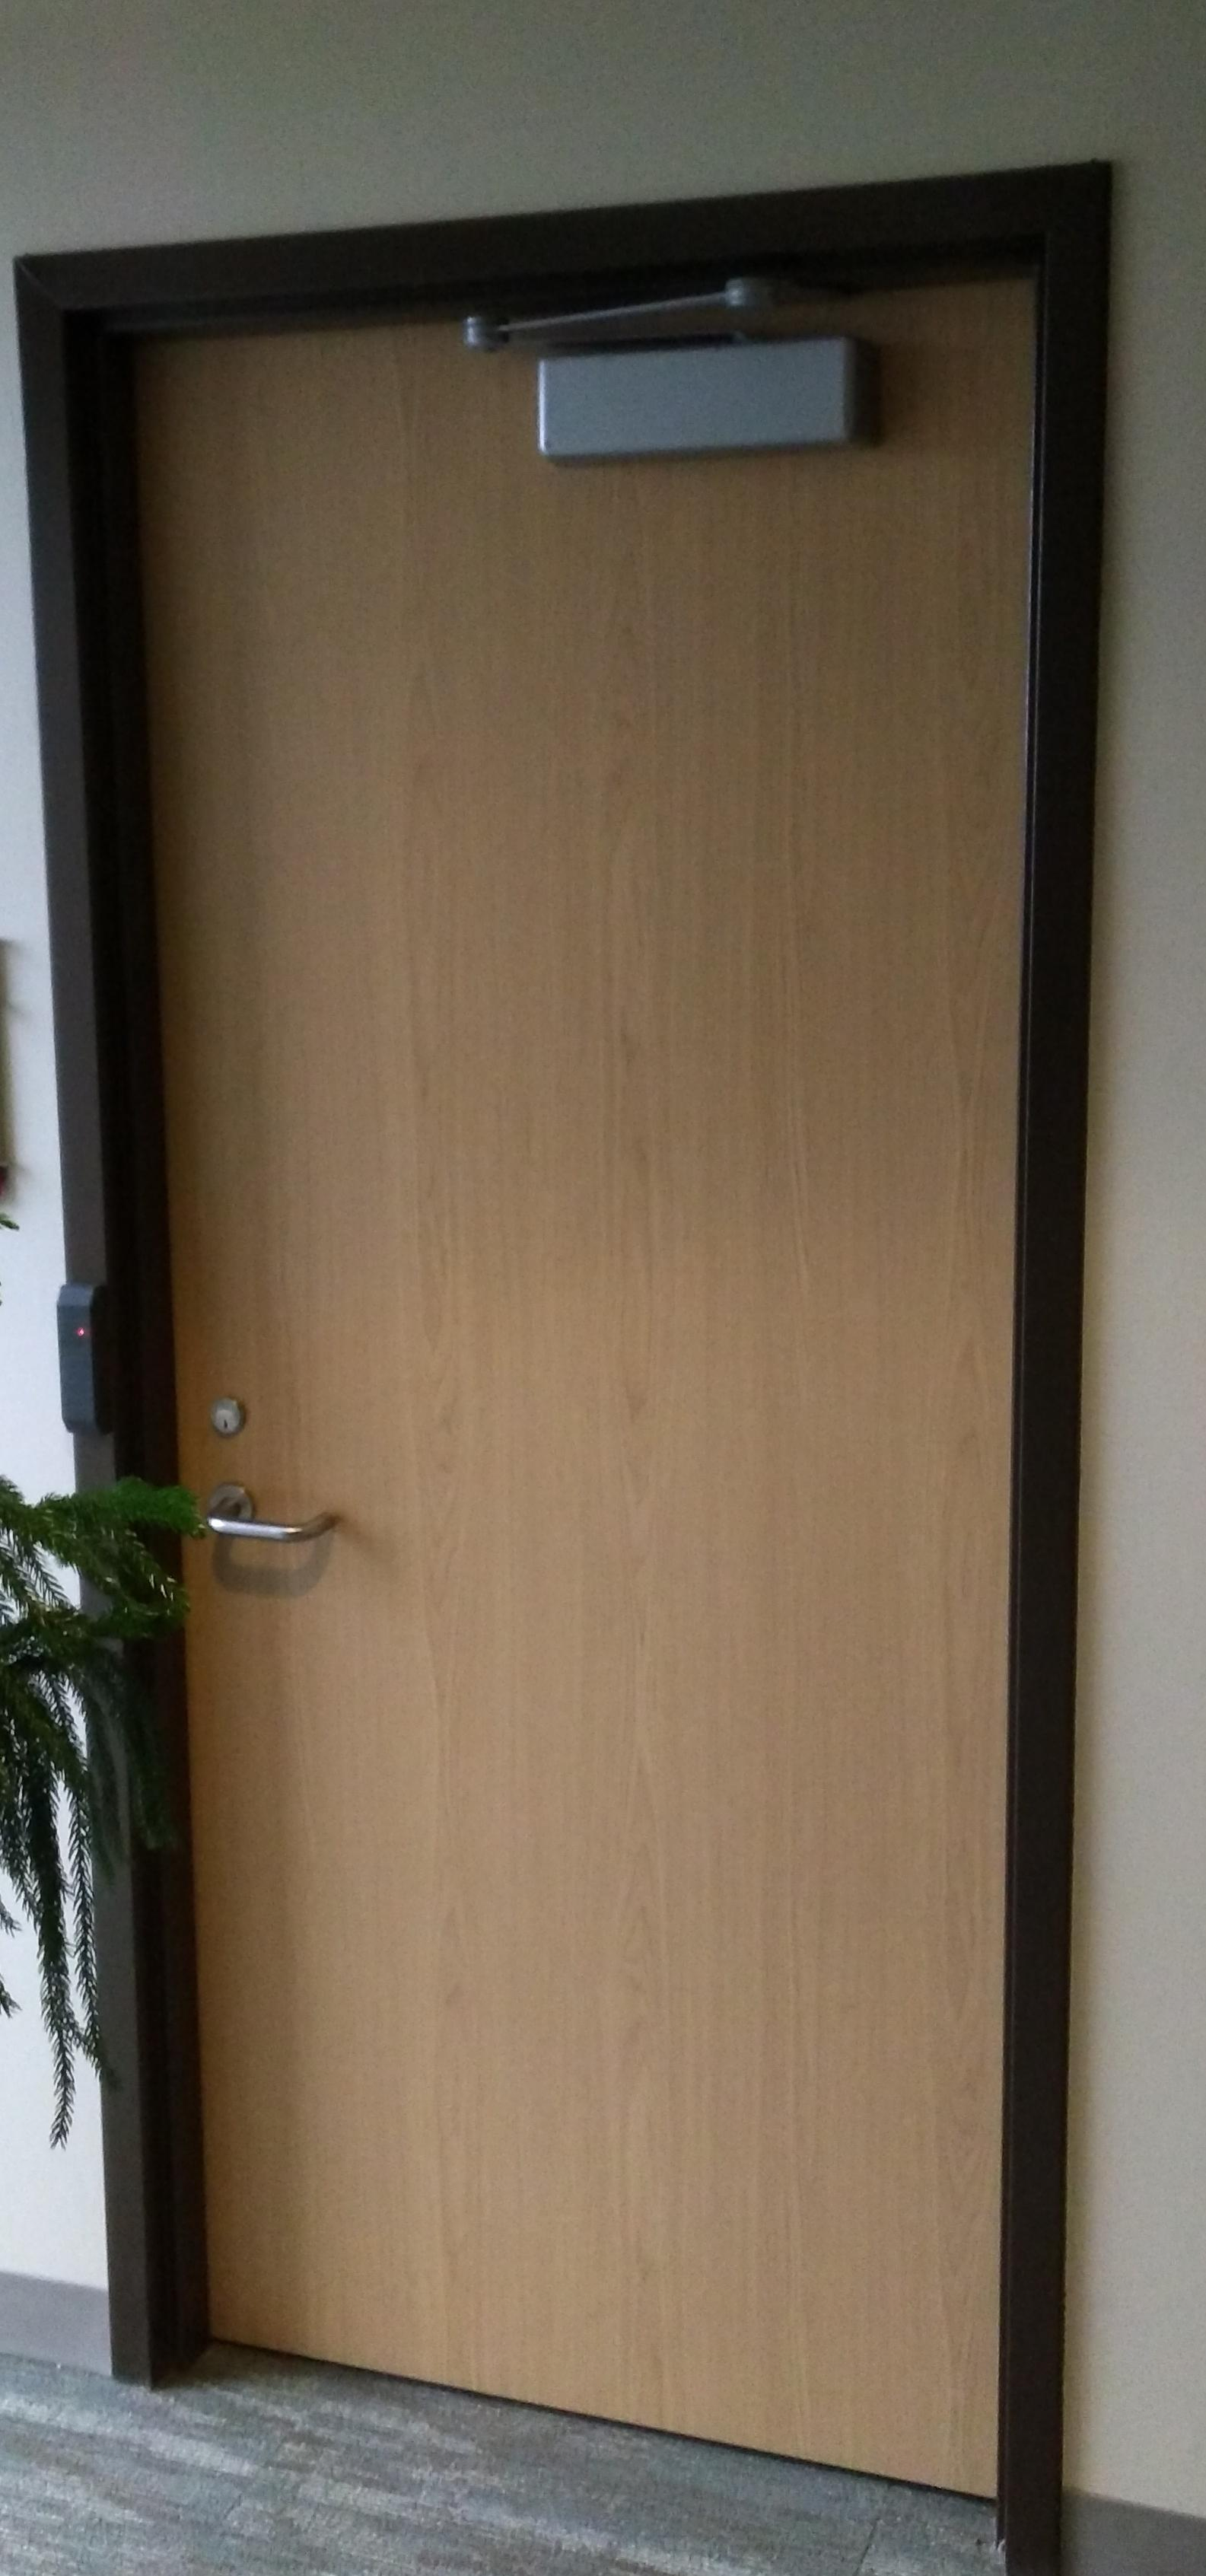door: (15, 163, 1112, 2573)
